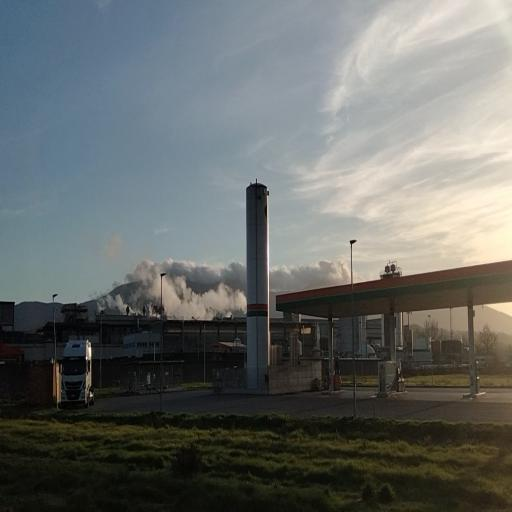leakage: (97, 243, 250, 322)
